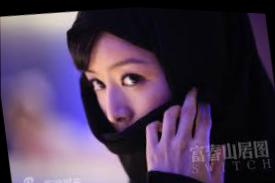WRONG: (77, 34, 188, 158)
